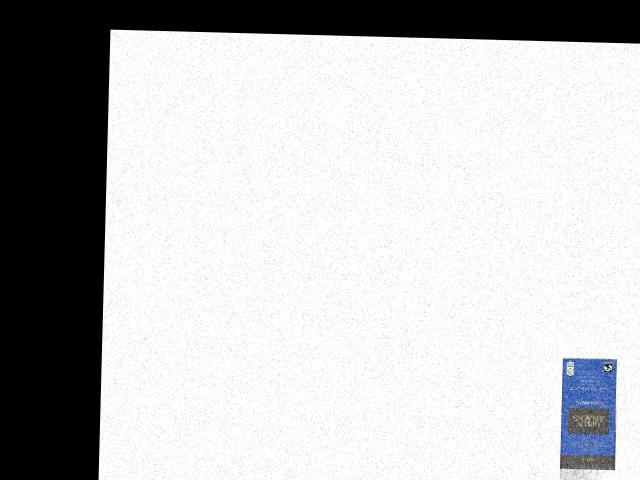chocolate: (558, 359, 618, 469)
